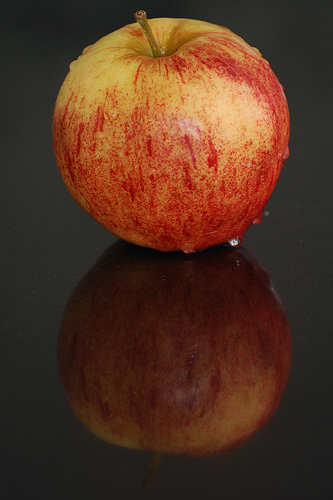apple: (48, 8, 290, 253)
